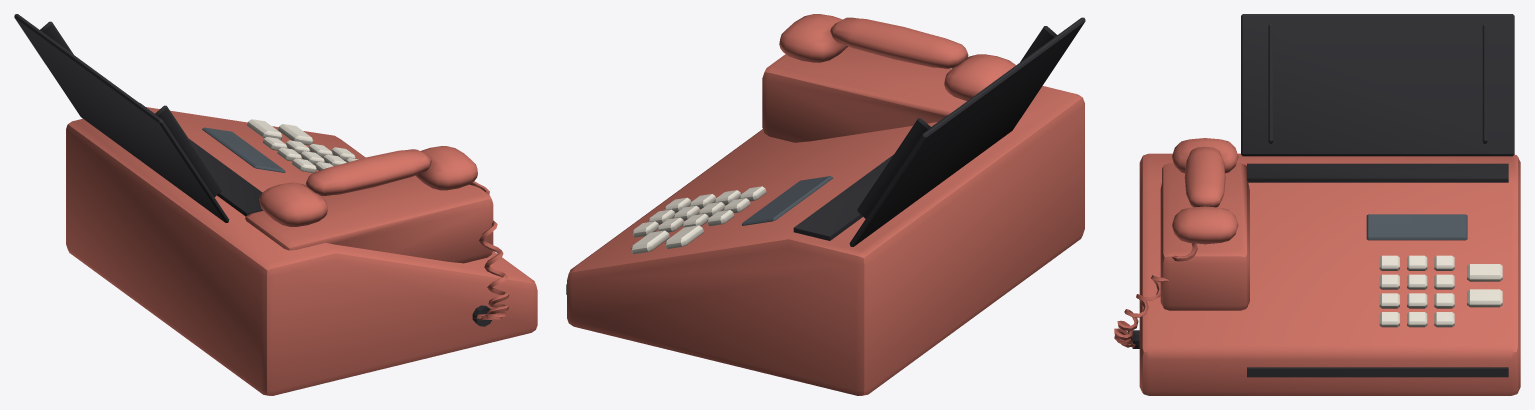
File: junk_fax.glb
The picture shows the model from 3 angles, left to right: view 1: azimuth 30°, elevation 25°; view 2: azimuth 150°, elevation 25°; view 3: azimuth 270°, elevation 25°; orthographic projection. The views are drawn at different scales.
Visible parts, largest first — view 1: PART; view 2: PART; view 3: PART.
Part boxes in pixels (bbox=[...]): PART: bbox=[14, 14, 537, 395]; PART: bbox=[566, 14, 1085, 395]; PART: bbox=[1114, 14, 1520, 395].
Bounding box in the file's own units: 0.2993 × 0.2197 × 0.3413.
